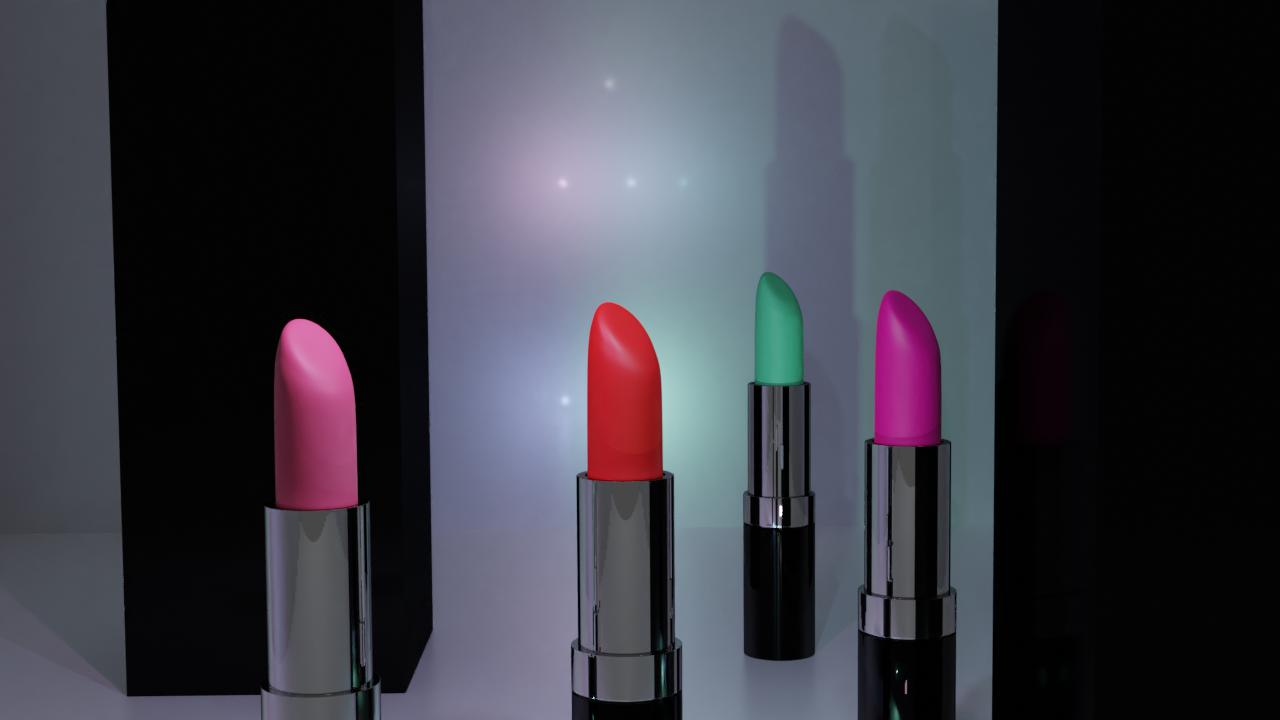CLASSIFIER_NAME: (258, 311, 388, 720), (570, 294, 685, 720), (855, 283, 958, 720), (742, 267, 817, 661)
